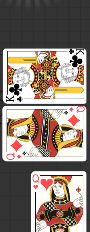9D: (4, 153, 22, 161)
KC: (5, 94, 25, 103)
